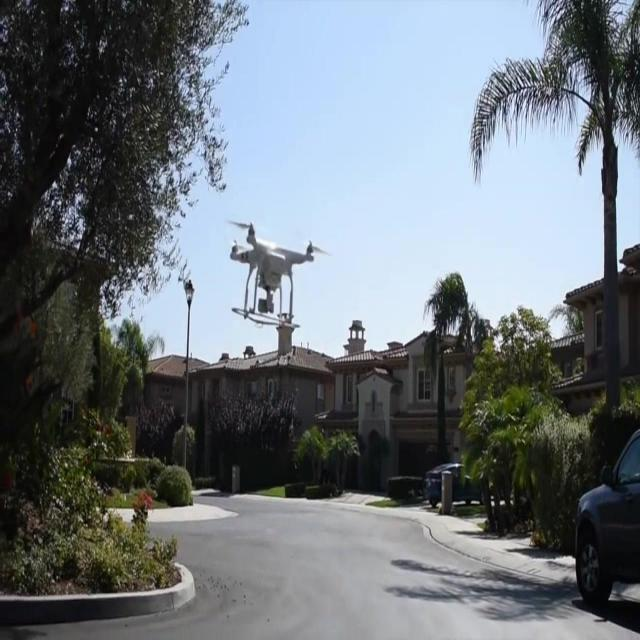UAV: (225, 220, 331, 328)
